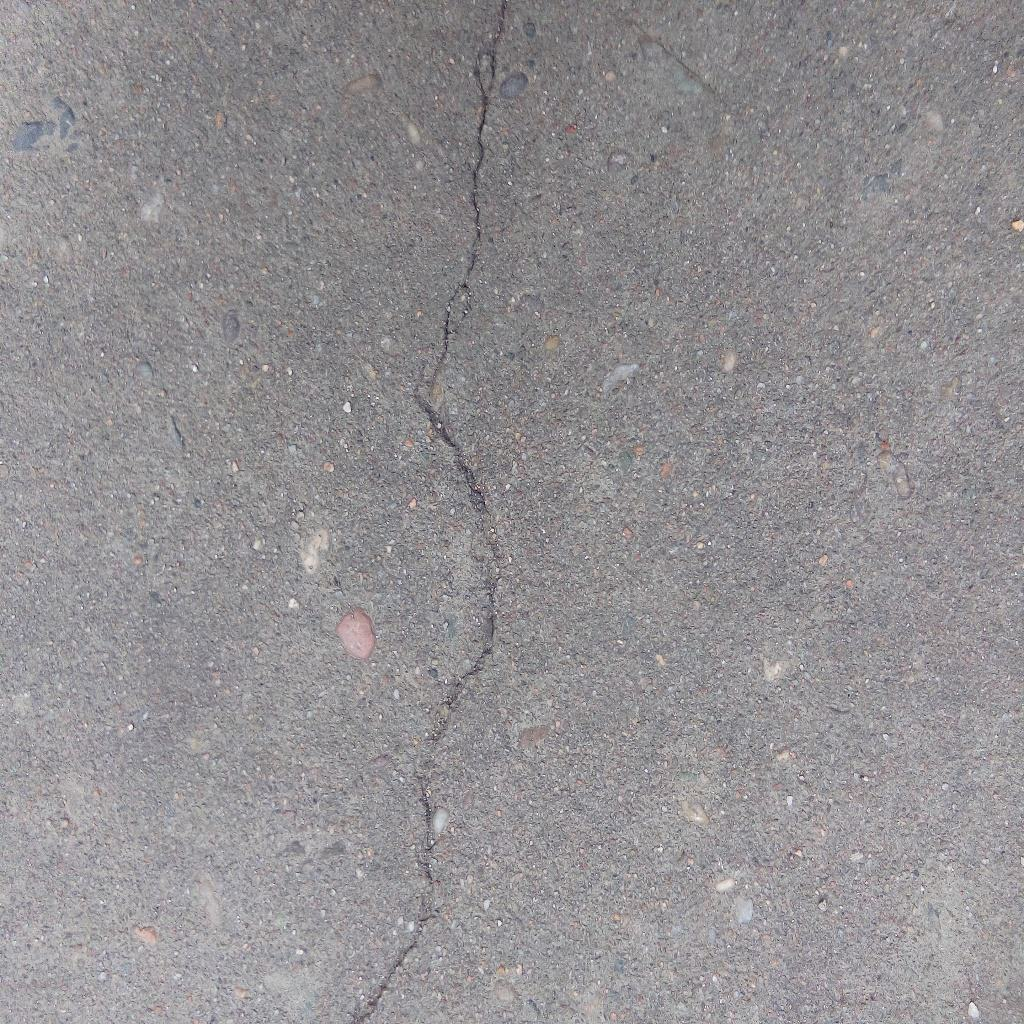Crack: (350, 1, 509, 1024)
